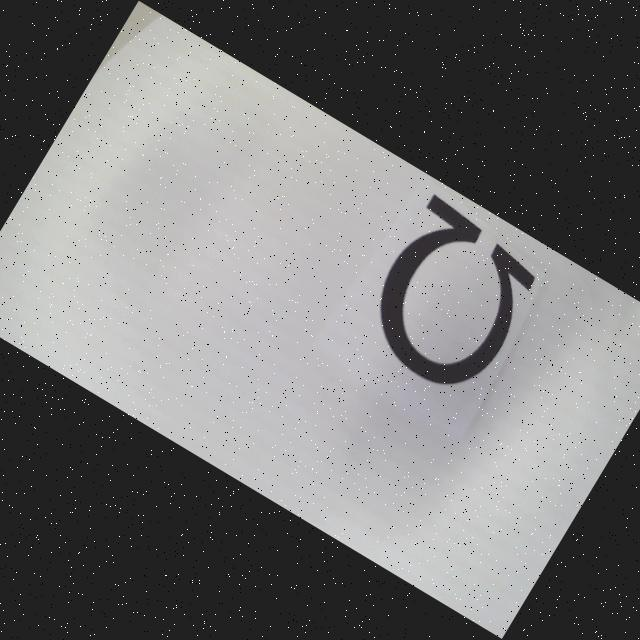OMEGA: (350, 194, 551, 404)
